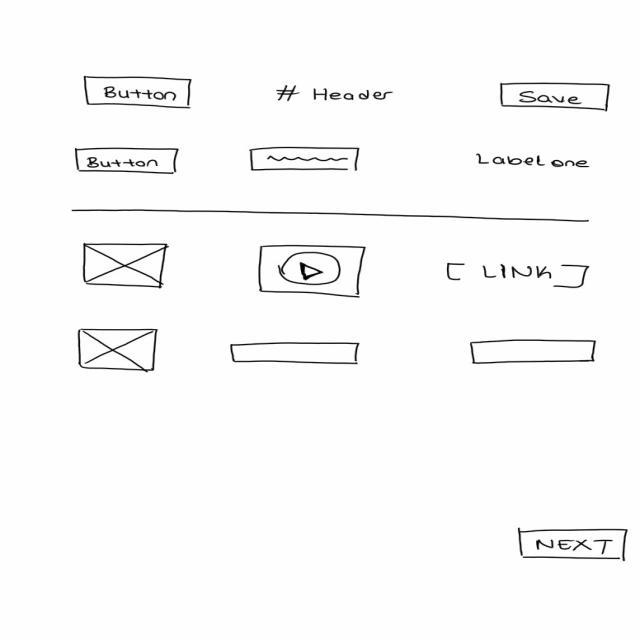button: (518, 527, 633, 564), (83, 76, 195, 111), (499, 82, 613, 112), (74, 149, 181, 177)
image: (82, 242, 170, 291), (77, 327, 159, 373)
input: (469, 340, 601, 367), (248, 145, 363, 173), (230, 342, 363, 366)
label: (475, 152, 596, 173), (276, 85, 396, 105)
link: (445, 260, 591, 292)
